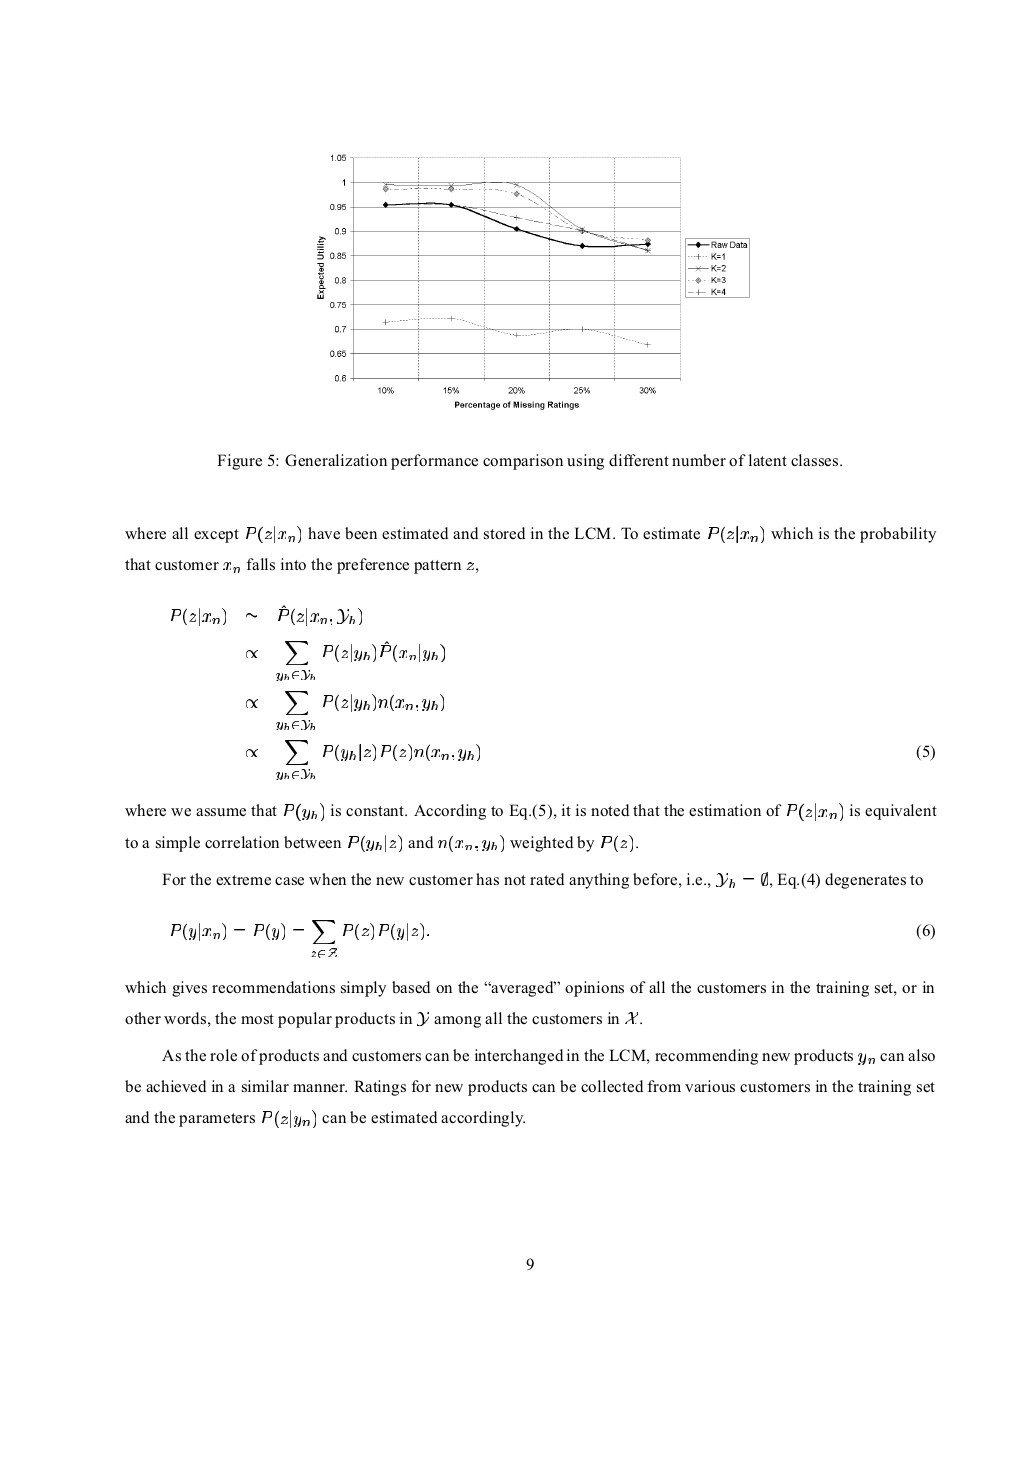figure: (317, 154, 749, 409)
formula: (170, 920, 934, 957), (245, 740, 934, 779), (245, 641, 444, 680), (245, 690, 443, 729), (170, 603, 362, 626)
